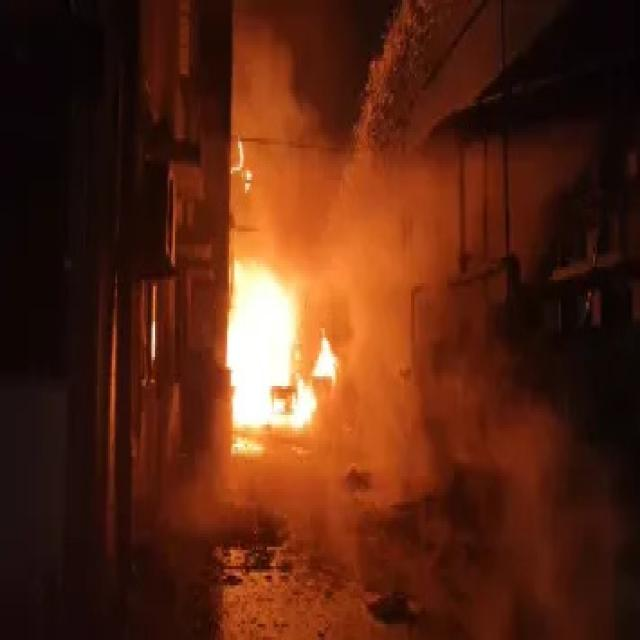fire: (224, 255, 340, 456), (230, 135, 253, 193)
